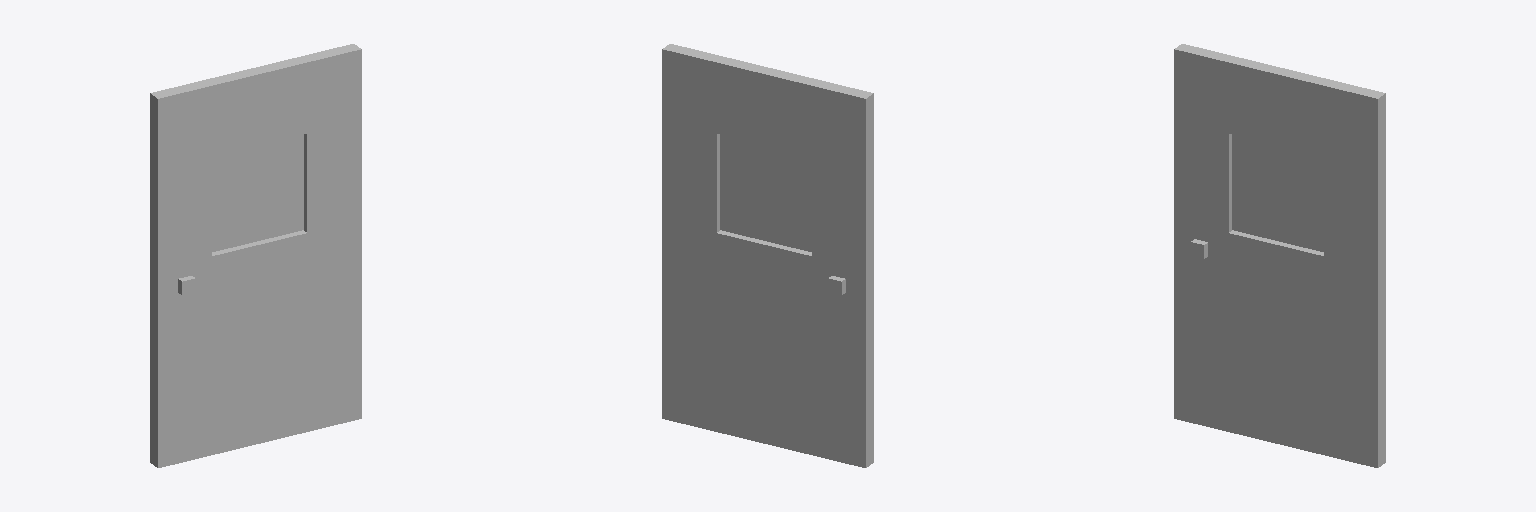
Rendered from Restraunt Door.obj.
The picture shows the model from 3 angles: view 1: azimuth 30°, elevation 25°; view 2: azimuth 150°, elevation 25°; view 3: azimuth 330°, elevation 25°; orthographic projection.
Parts seen in each view (by area): view 1: cube; view 2: cube; view 3: cube.
Part boxes in pixels (bbox=[...]): cube: bbox=[150, 44, 361, 467]; cube: bbox=[662, 44, 873, 467]; cube: bbox=[1174, 44, 1385, 467].
Size of the model in its own units: 1.88 by 3.25 by 0.25.